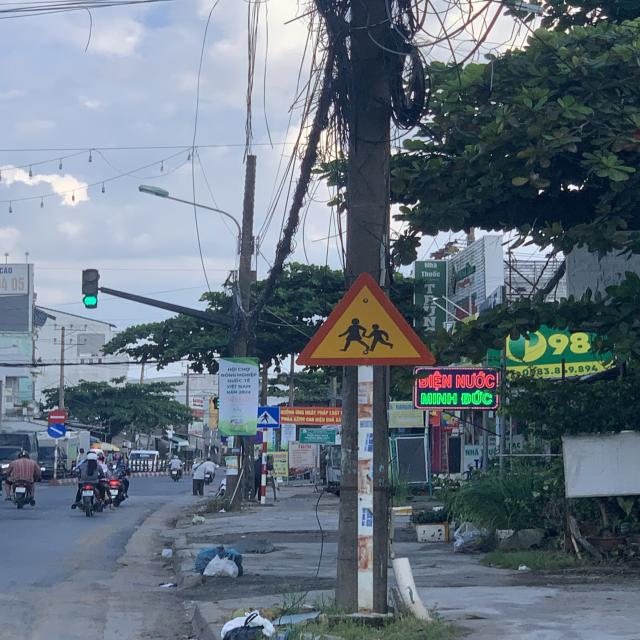Vong_Xuyen: (301, 275, 433, 366)
